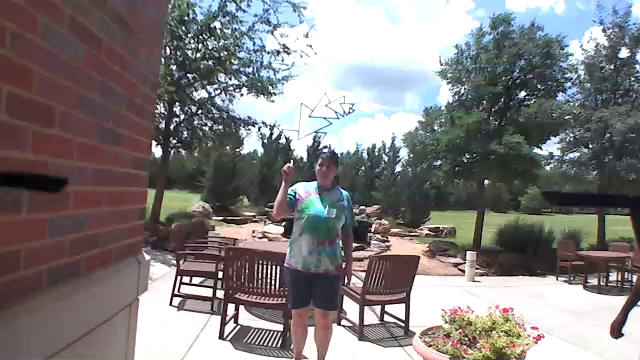up: (278, 153, 297, 184)
